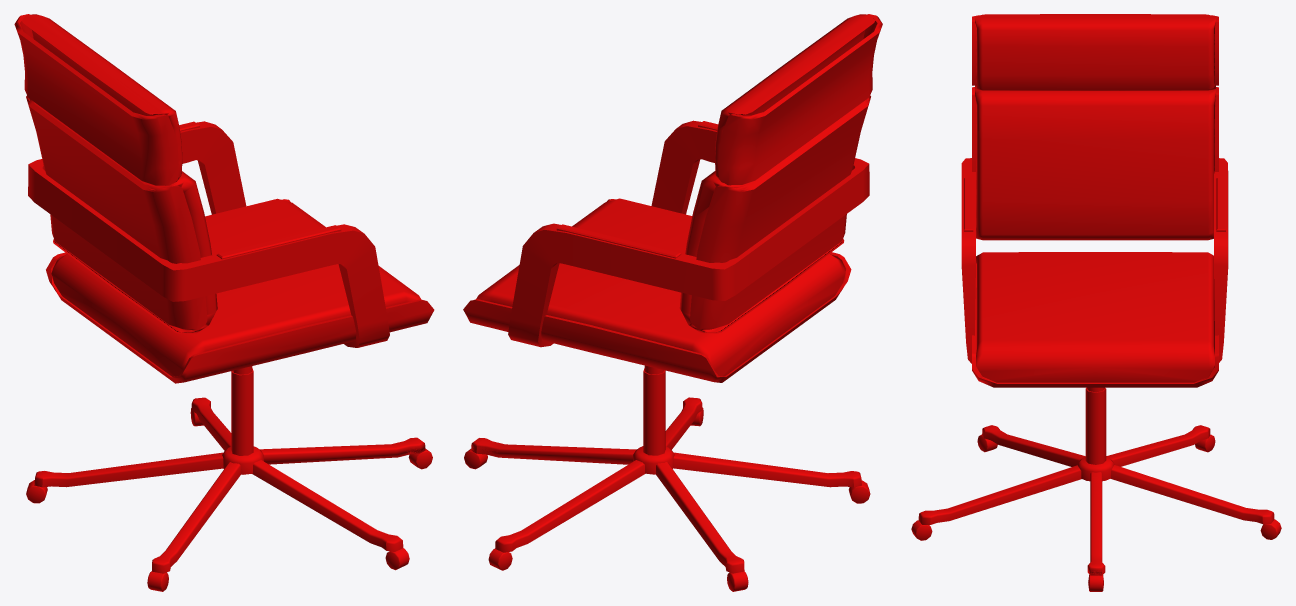
File: boardRoom_Chair_01.fbx
The picture shows the model from 3 angles, left to right: view 1: azimuth 30°, elevation 25°; view 2: azimuth 150°, elevation 25°; view 3: azimuth 270°, elevation 25°; orthographic projection. The views are drawn at different scales.
Visible parts, largest first — view 1: seat_chair_optimised, legs_Chair_optimised; view 2: seat_chair_optimised, legs_Chair_optimised; view 3: seat_chair_optimised, legs_Chair_optimised.
Part boxes in pixels (left/top/right/bottom): seat_chair_optimised: left=14, top=14, right=434, bottom=383; legs_Chair_optimised: left=26, top=366, right=432, bottom=591; seat_chair_optimised: left=463, top=14, right=882, bottom=382; legs_Chair_optimised: left=464, top=365, right=870, bottom=591; seat_chair_optimised: left=961, top=14, right=1228, bottom=387; legs_Chair_optimised: left=911, top=387, right=1281, bottom=591.
Bounding box in the file's own units: 3.89 × 5.04 × 3.93.
